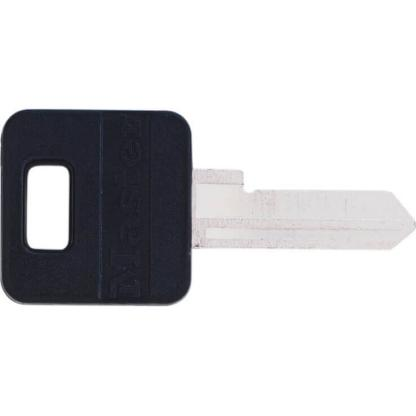key: (0, 109, 415, 299)
